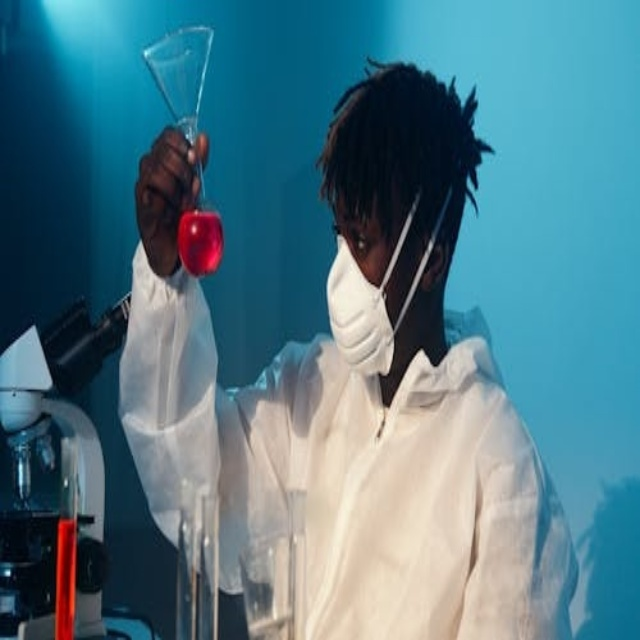Mascara: (327, 222, 404, 376)
Sin_gafas: (330, 214, 393, 271)
Sin_guantes: (135, 123, 209, 278)
